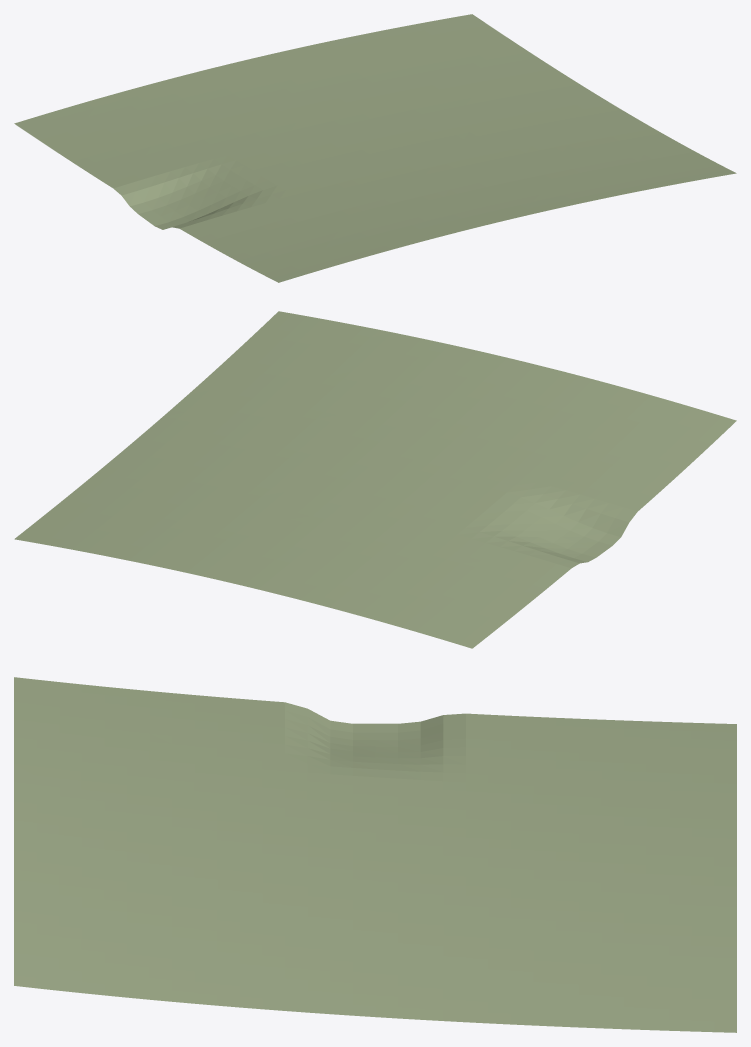
Rendered from valley-15-12.glb.
3 views of the same model, one above another, from view 1: azimuth 30°, elevation 25°; view 2: azimuth 150°, elevation 25°; view 3: azimuth 270°, elevation 25° (orthographic). The views are drawn at different scales.
Visible parts, largest first — view 1: valley-15-12; view 2: valley-15-12; view 3: valley-15-12.
Boxes of the visible parts, x1,y1,x2,y2 form: valley-15-12: (14,14,736,282); valley-15-12: (14,311,736,648); valley-15-12: (14,677,736,1032).
Size of the model in its own units: 256 by 23.36 by 256.
